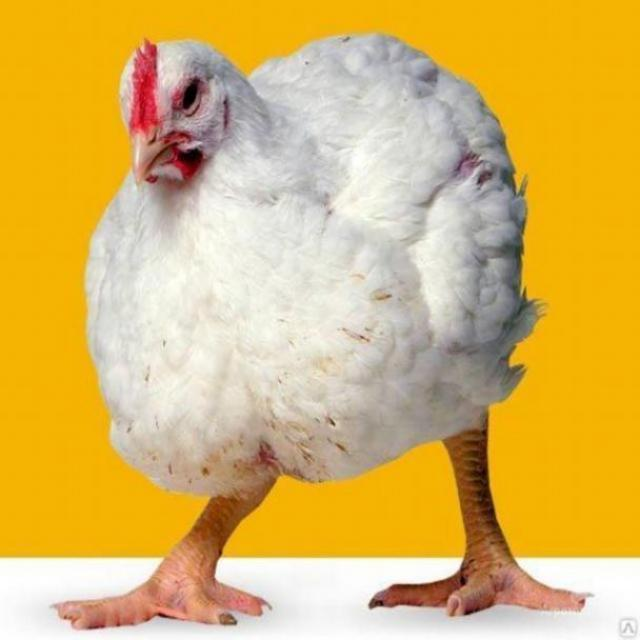Chicken: (64, 16, 584, 621)
